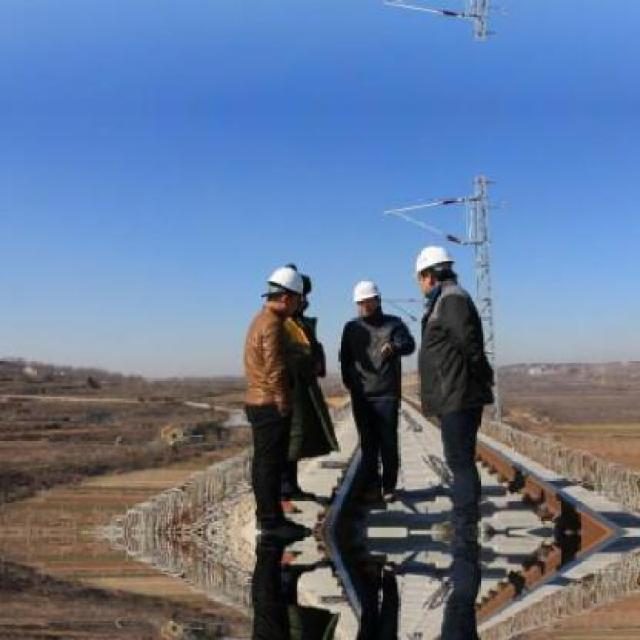helmet: (262, 261, 310, 321), (412, 239, 456, 296), (350, 276, 382, 322)
